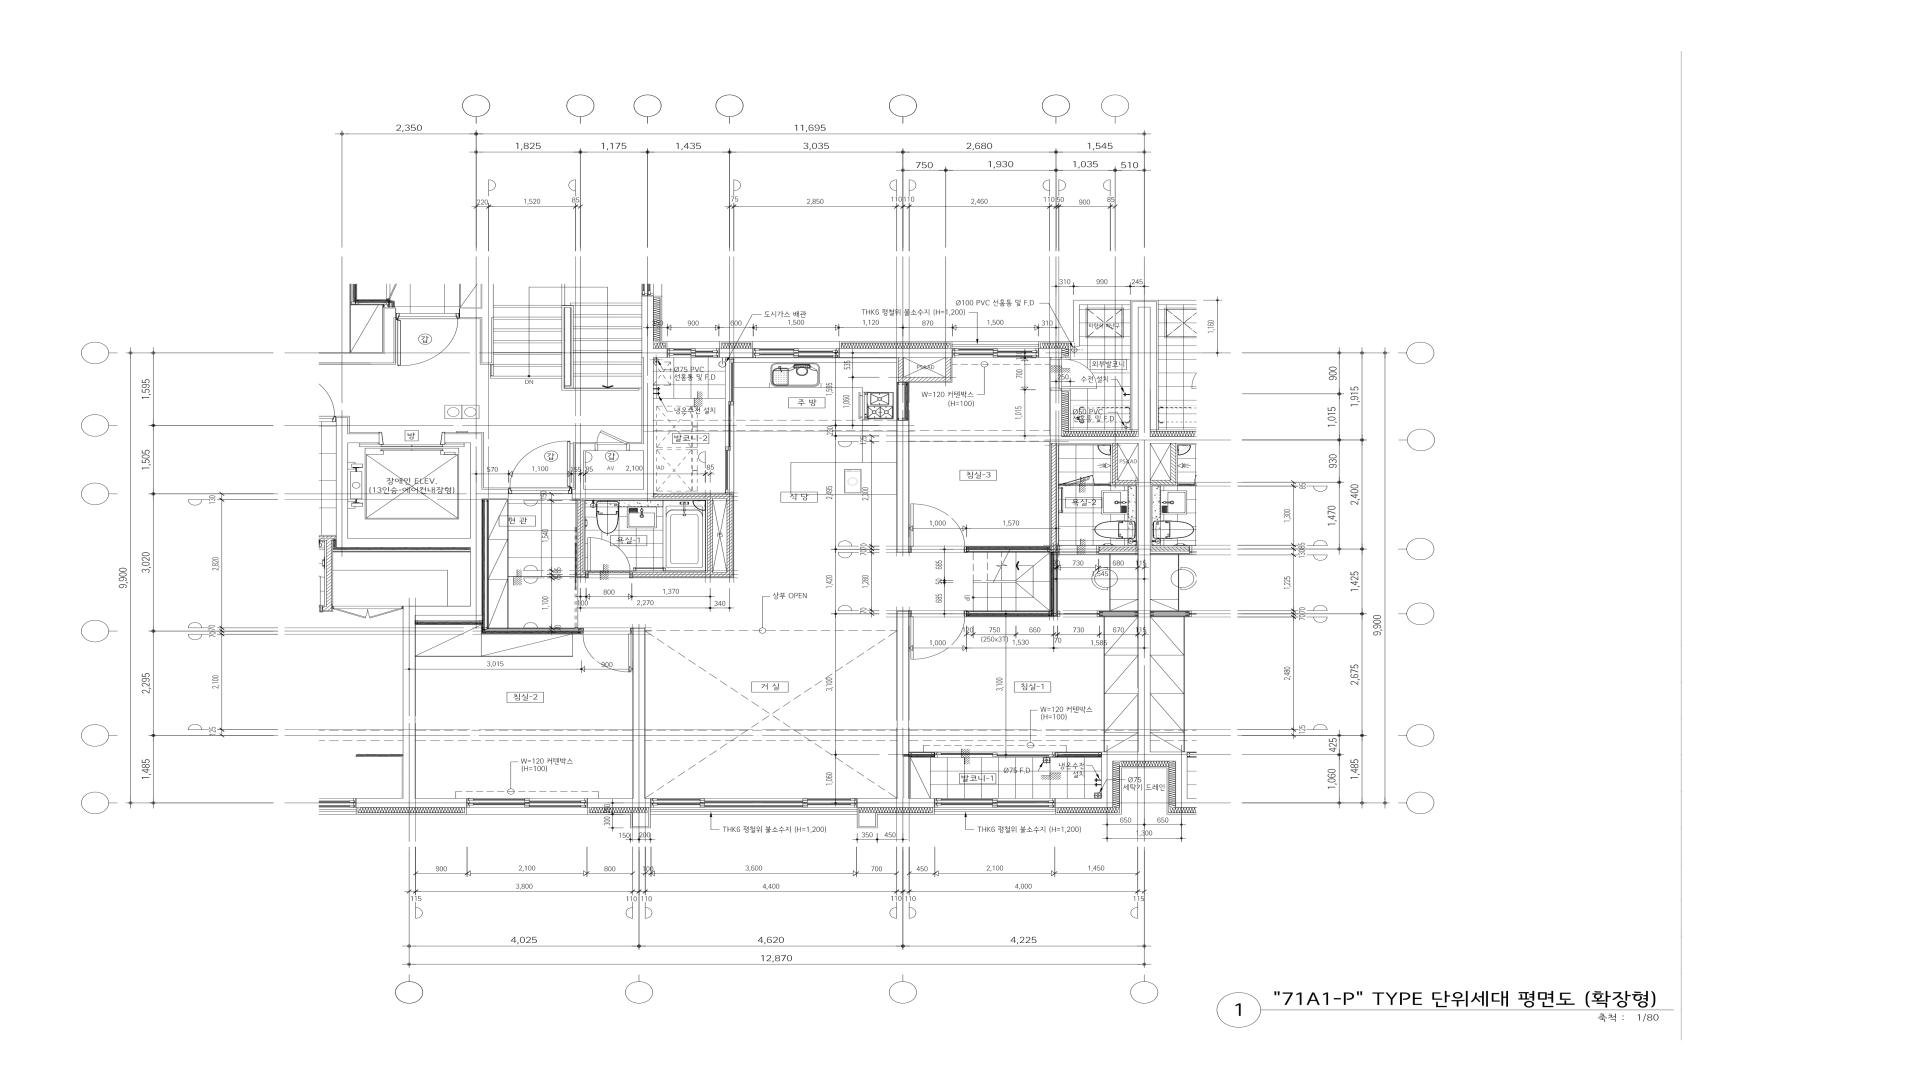door: (396, 309, 460, 367), (508, 440, 572, 495), (909, 502, 967, 553), (909, 611, 967, 659), (580, 628, 633, 678), (587, 537, 630, 578), (1050, 357, 1098, 390), (725, 359, 735, 493), (332, 605, 402, 620), (595, 430, 626, 451), (935, 752, 1055, 757), (1058, 611, 1138, 617), (1062, 472, 1095, 485), (1060, 546, 1098, 553)
wall: (481, 498, 580, 634), (1055, 752, 1196, 807), (1145, 301, 1200, 440), (630, 498, 727, 578), (1056, 761, 1196, 815), (653, 493, 733, 578), (347, 498, 481, 547), (965, 553, 1058, 617), (336, 415, 378, 547), (642, 295, 667, 498), (415, 547, 483, 616), (1050, 390, 1137, 443), (319, 309, 396, 365), (444, 433, 508, 498), (1138, 487, 1151, 752), (626, 295, 647, 451), (1071, 301, 1130, 347), (460, 284, 493, 365), (402, 607, 415, 798), (897, 611, 910, 798), (1130, 301, 1145, 440), (633, 628, 645, 798), (857, 807, 935, 828), (897, 421, 909, 553), (897, 357, 952, 382), (587, 807, 651, 828), (319, 535, 336, 612), (1050, 443, 1060, 553), (1150, 443, 1176, 485), (1112, 443, 1138, 484), (839, 348, 952, 357), (574, 443, 596, 489), (356, 798, 467, 807), (562, 306, 574, 388), (356, 807, 467, 815), (576, 498, 587, 578), (653, 295, 667, 348), (839, 342, 952, 348), (857, 798, 935, 807), (572, 489, 644, 498), (1137, 440, 1150, 487), (587, 798, 651, 807), (965, 546, 1050, 553), (1039, 342, 1071, 357), (719, 348, 753, 357), (1098, 546, 1138, 553), (1151, 546, 1191, 553), (1055, 752, 1101, 757), (719, 342, 753, 348), (1038, 348, 1062, 357), (905, 382, 910, 421), (1150, 439, 1200, 443), (910, 752, 935, 757), (1095, 484, 1112, 485), (1059, 484, 1062, 485)
window: (650, 798, 857, 807), (935, 798, 1056, 807), (467, 798, 587, 807), (952, 348, 1039, 357), (753, 348, 839, 357), (667, 348, 719, 357)
